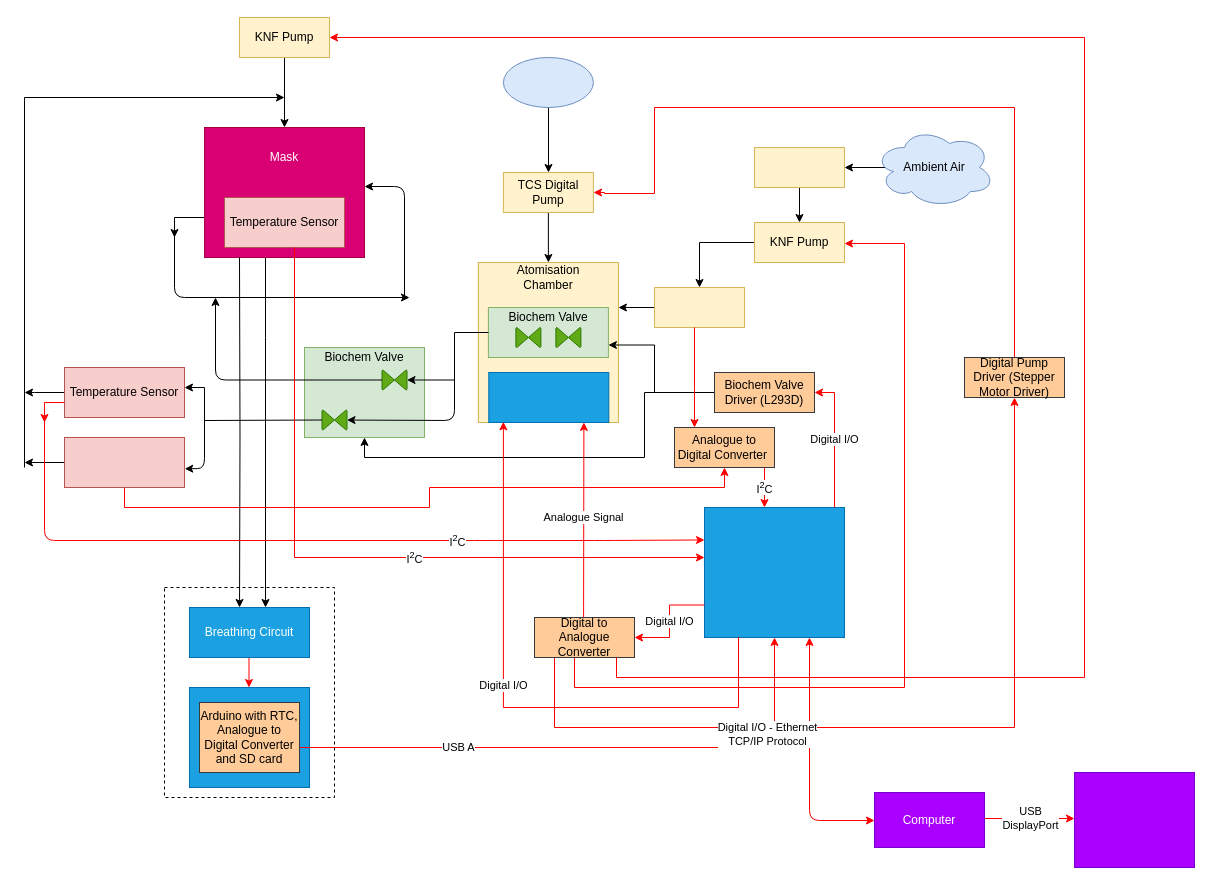
This 1212x885 diagram has some shape labels left out. The shapes that lost their labels are listed below. From the top down, each one's centre as x and y in pixels, then its label:
At (x=547, y=82): "Water".
At (x=799, y=167): "Filter".
At (x=699, y=307): "Flow Meter".
At (x=548, y=397): "Atomiser Circuit".
At (x=124, y=462): "Pressure Sensor".
At (x=774, y=572): "Raspberry Pi".
At (x=1134, y=820): "VR Headset".
